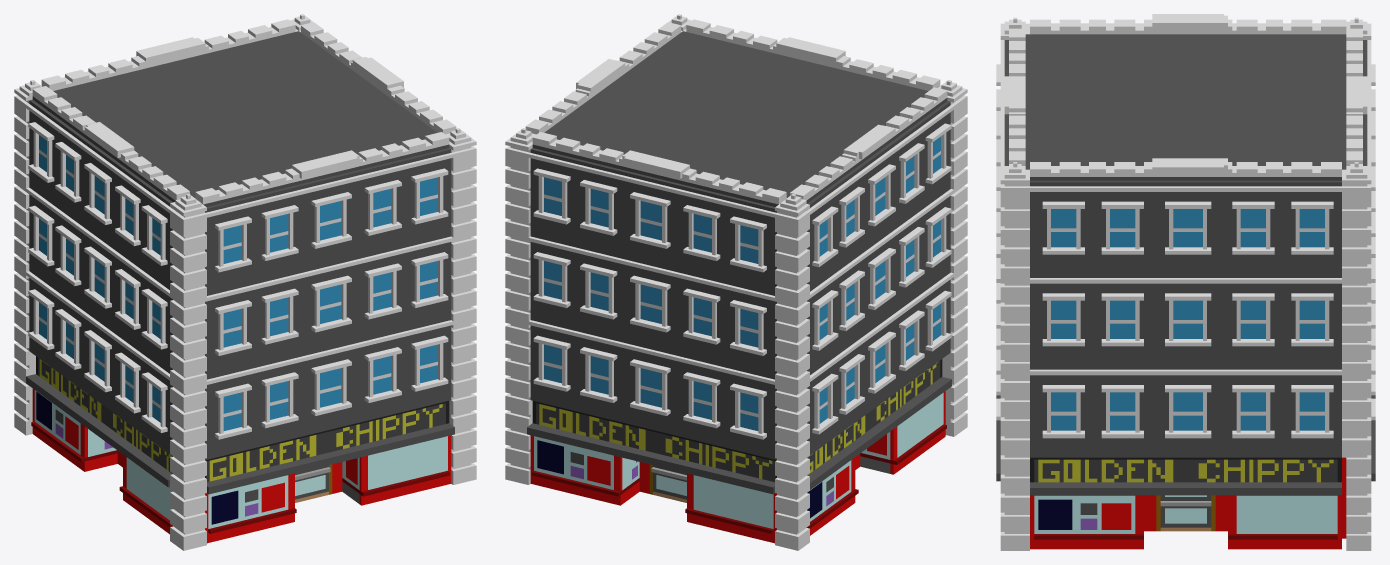
Rendered from obj_store03_Grey.obj.
3 renders of one model, left to right at view 1: azimuth 30°, elevation 25°; view 2: azimuth 150°, elevation 25°; view 3: azimuth 270°, elevation 25°, orthographic. The views are drawn at different scales.
Bounding box in the file's own units: 9 × 10 × 9.
1 material, 1 textured.
